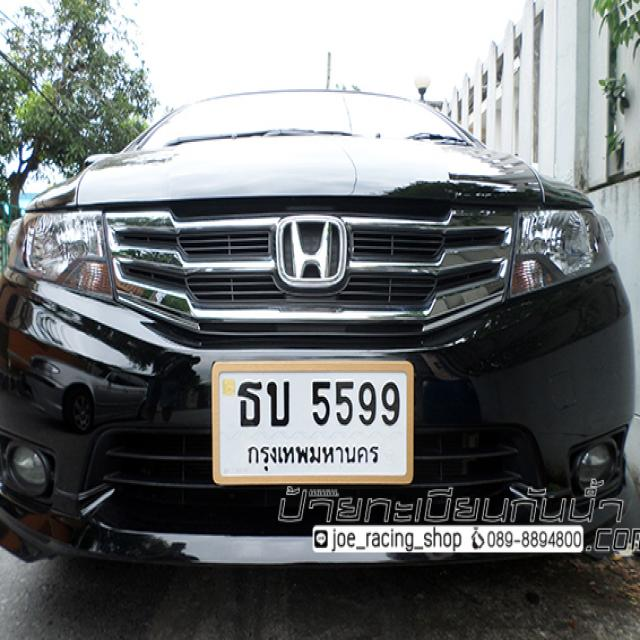license_plate: (209, 357, 416, 489)
